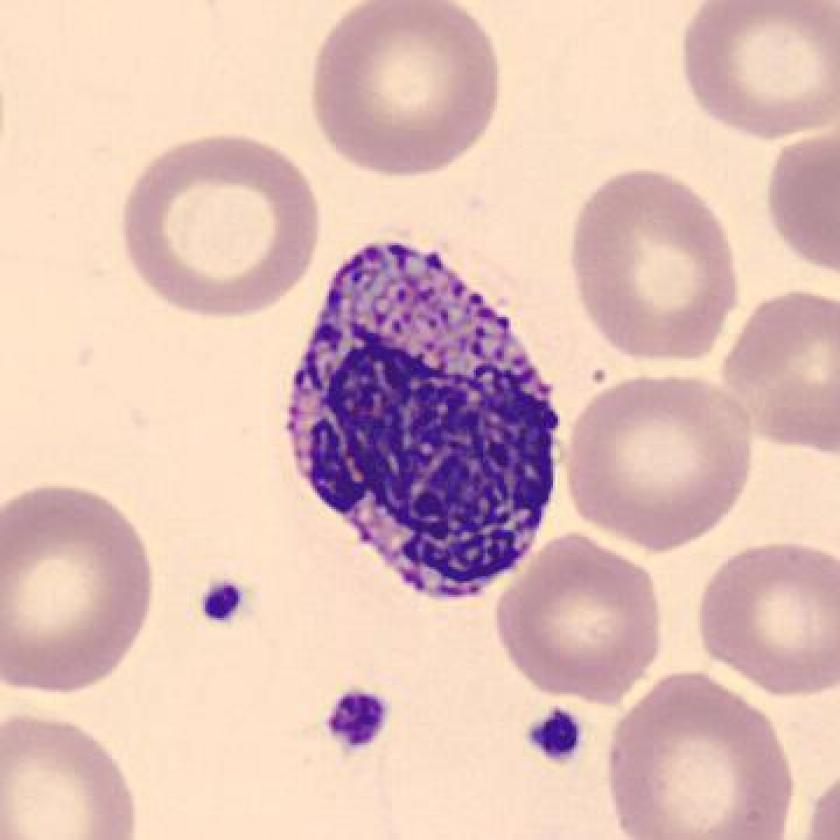basophil: (274, 228, 566, 621)
